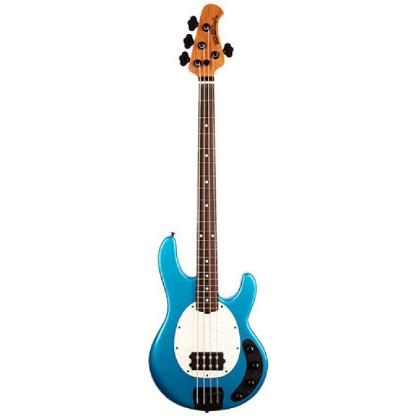bass: (146, 3, 268, 413)
